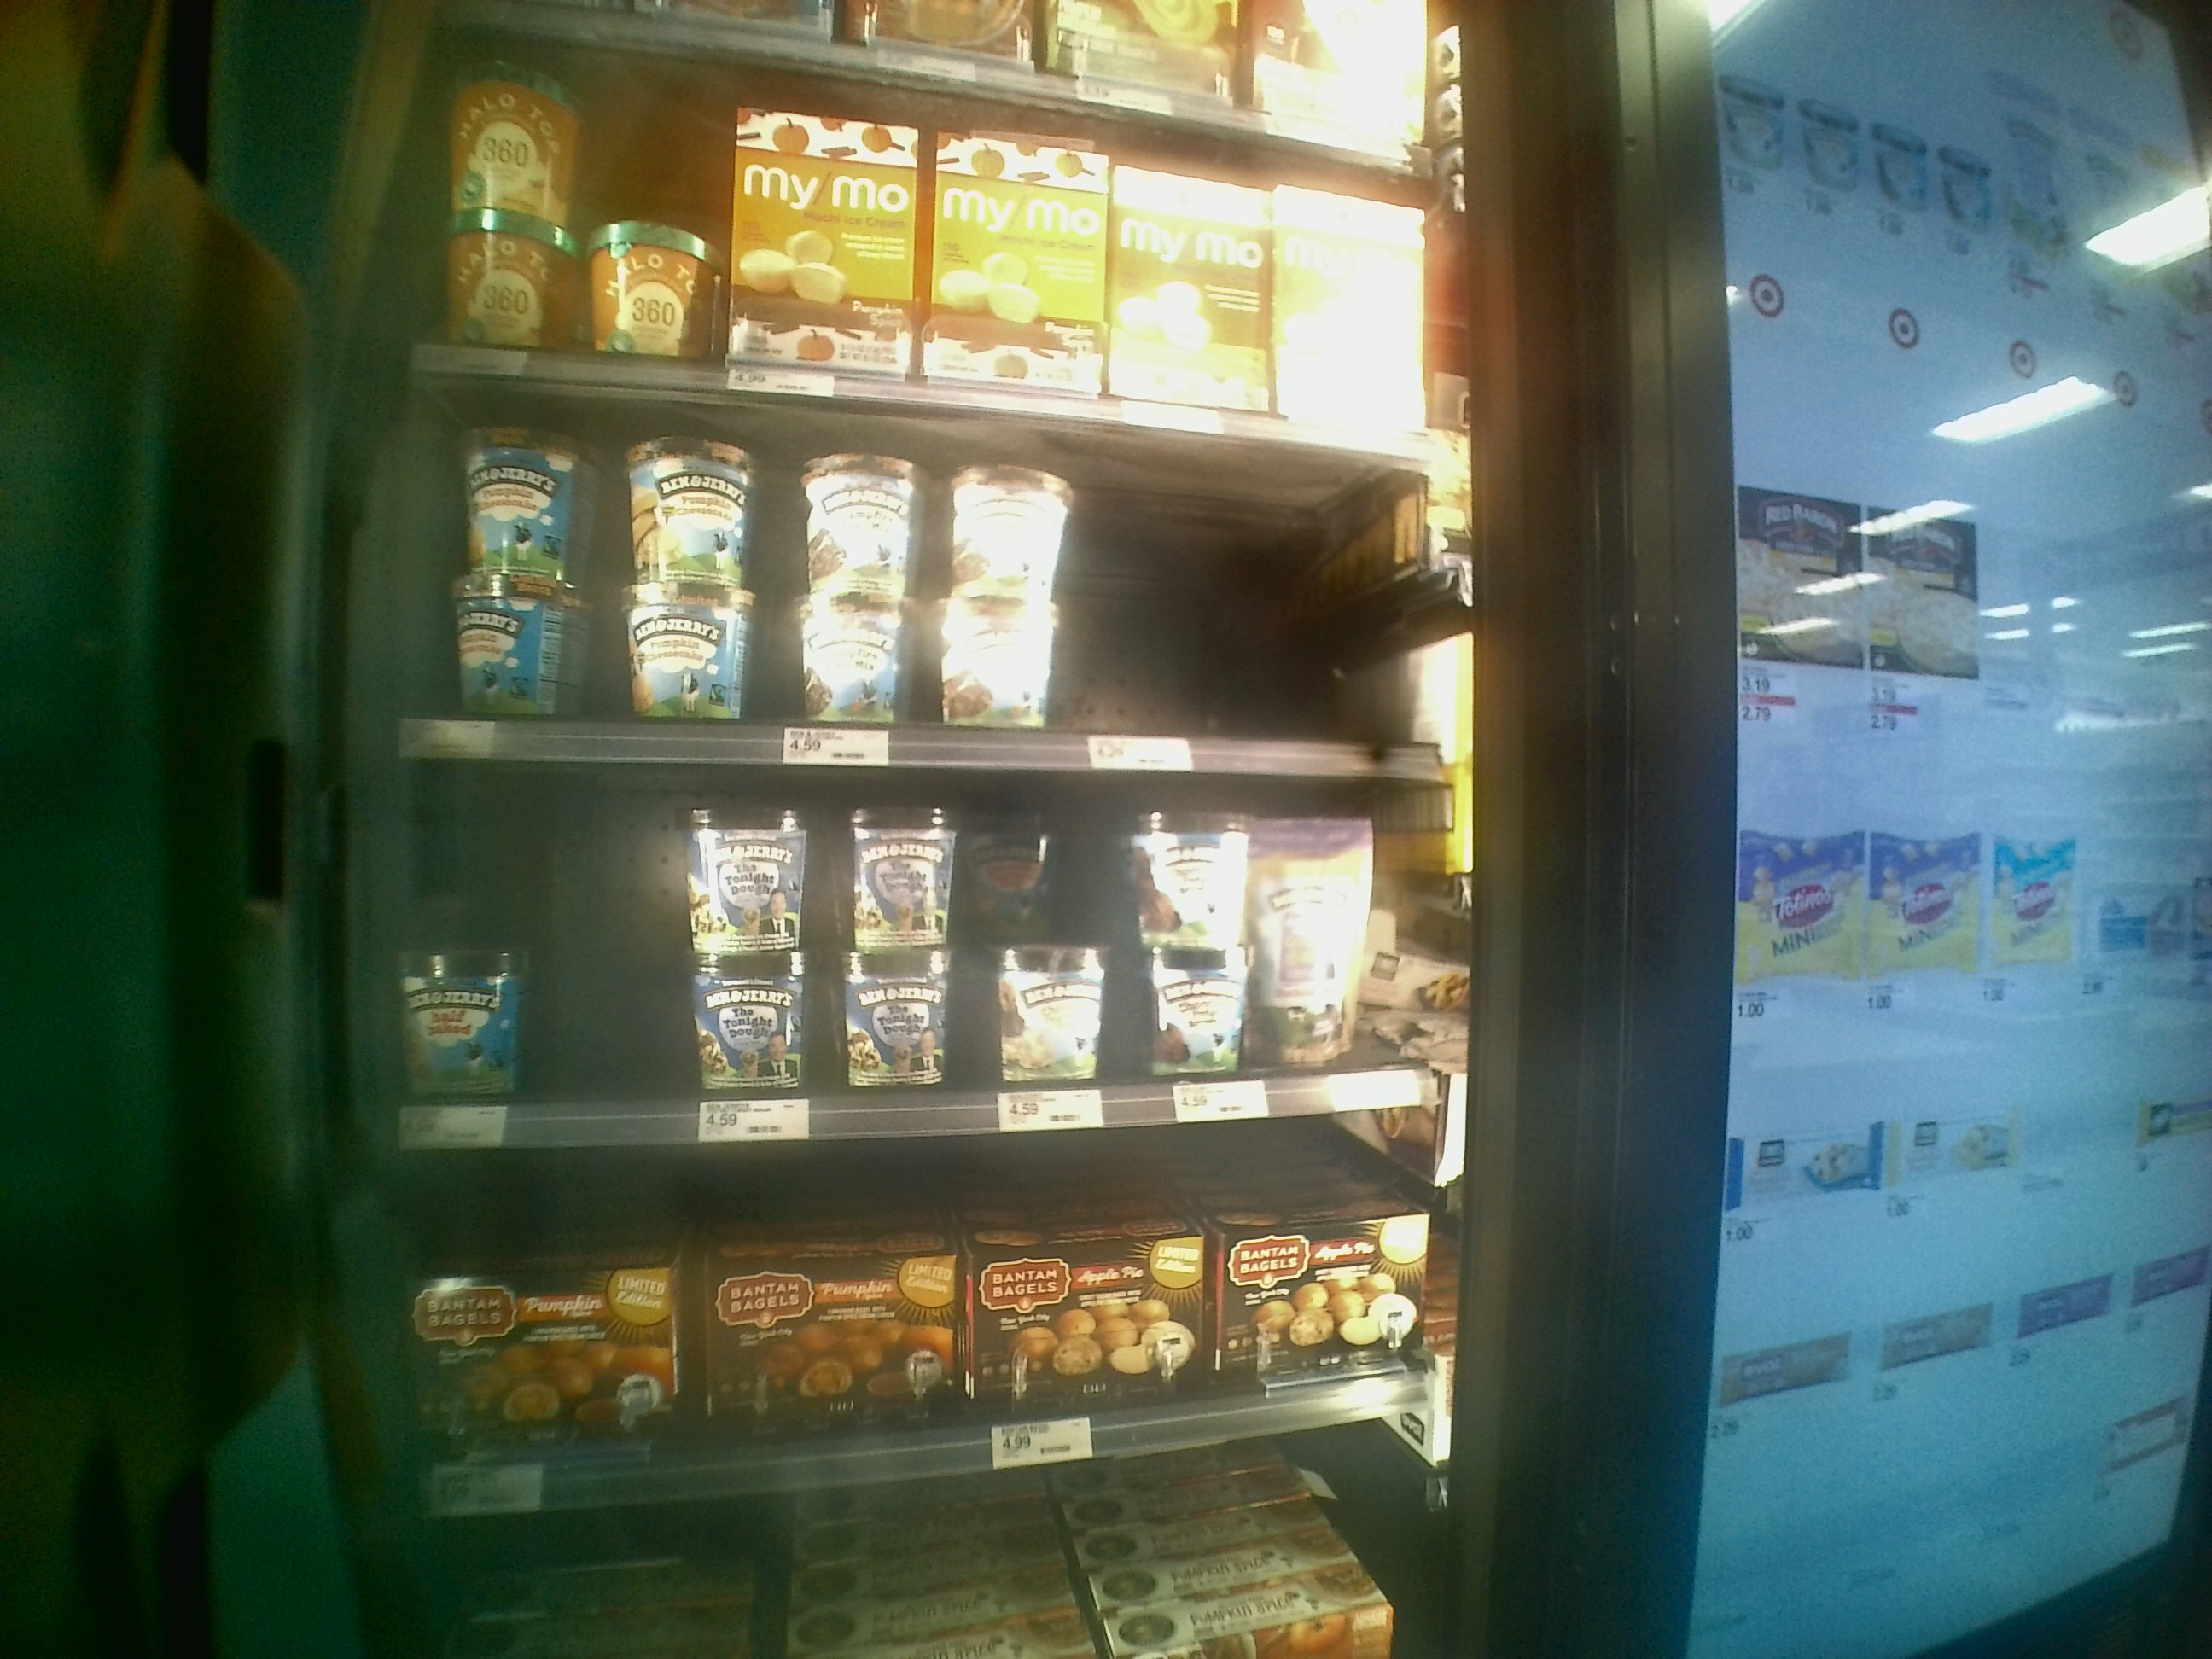shelf: (380, 33, 1474, 439), (376, 380, 1474, 769), (381, 1133, 1463, 1455), (380, 798, 1446, 1121)
